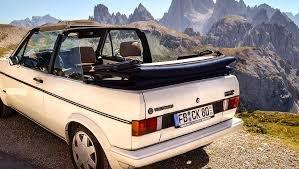license-plates: (174, 105, 215, 128)
